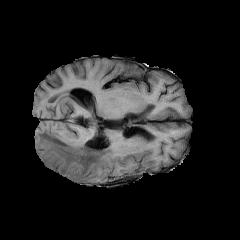glioma: (36, 127, 142, 177)
